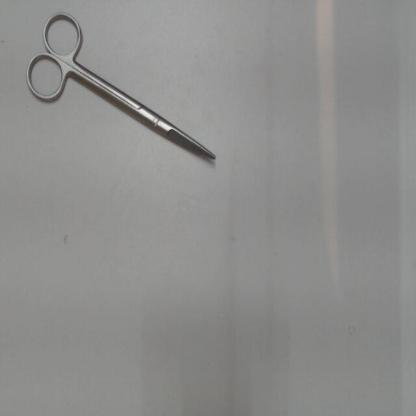Curved Mayo Scissors: (21, 2, 222, 167)
